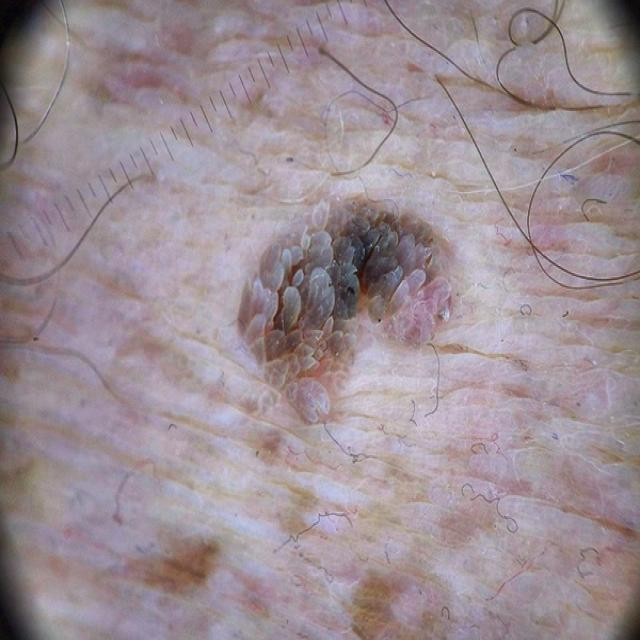Benign-Keratosis-like-Lesions-BKL-: (35, 27, 612, 603)
